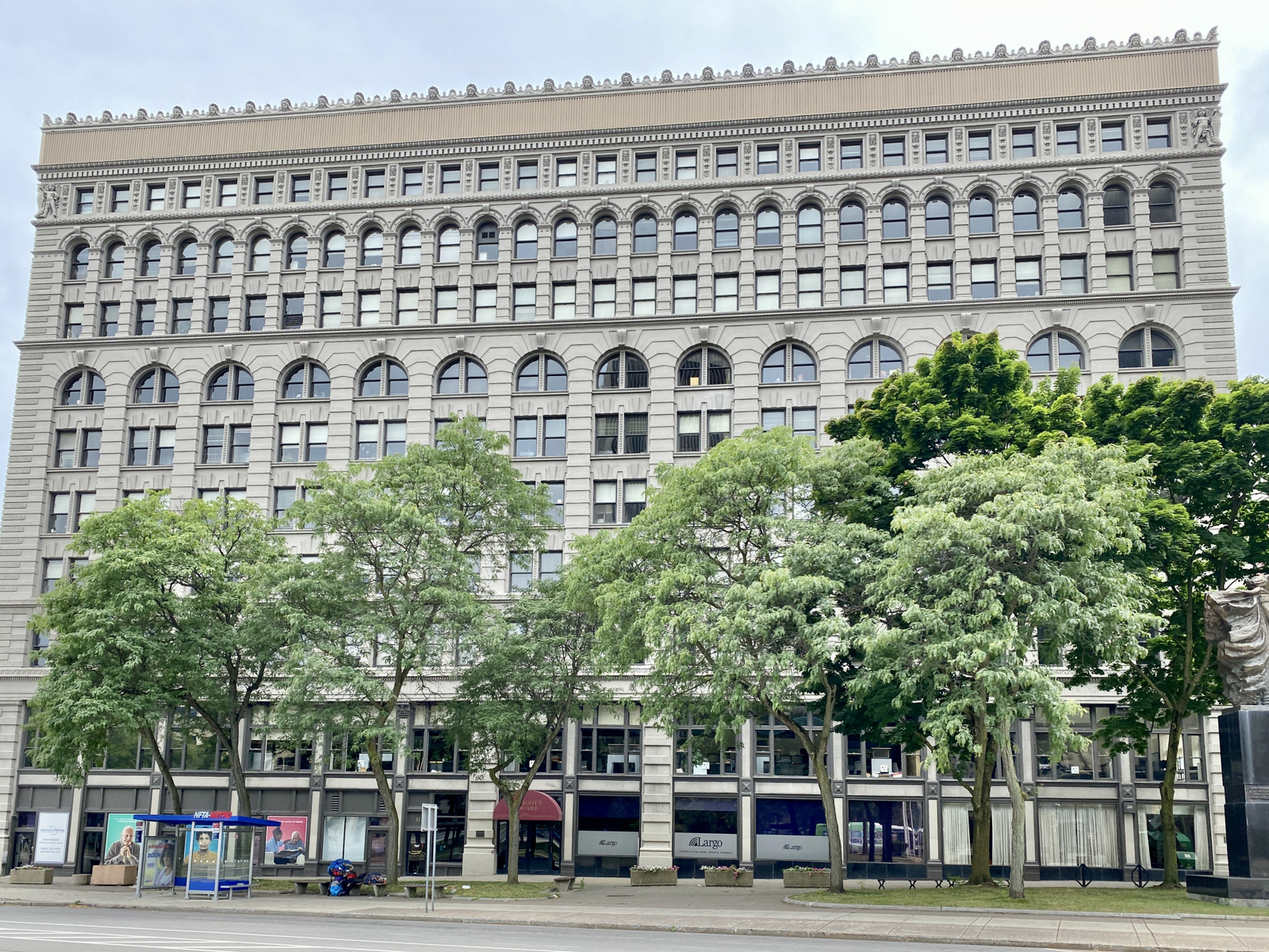fachada: (5, 29, 1237, 780)
